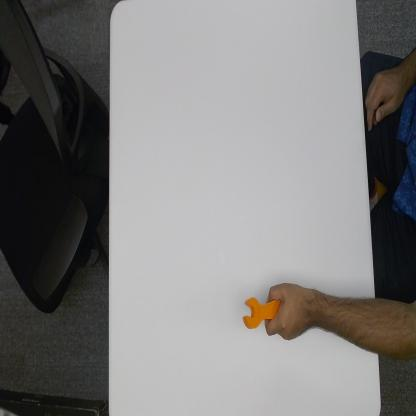Arm: (313, 282, 416, 364)
Hand: (268, 277, 308, 344)
Screwdriver: (240, 292, 277, 332)
